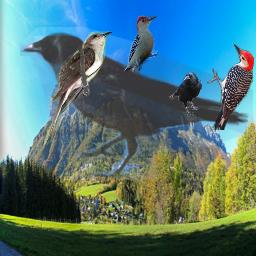Crow: (20, 27, 253, 180), (167, 70, 202, 118)
Cuckoo: (44, 31, 112, 146)
Woodpecker: (207, 42, 254, 130), (123, 15, 158, 73)
